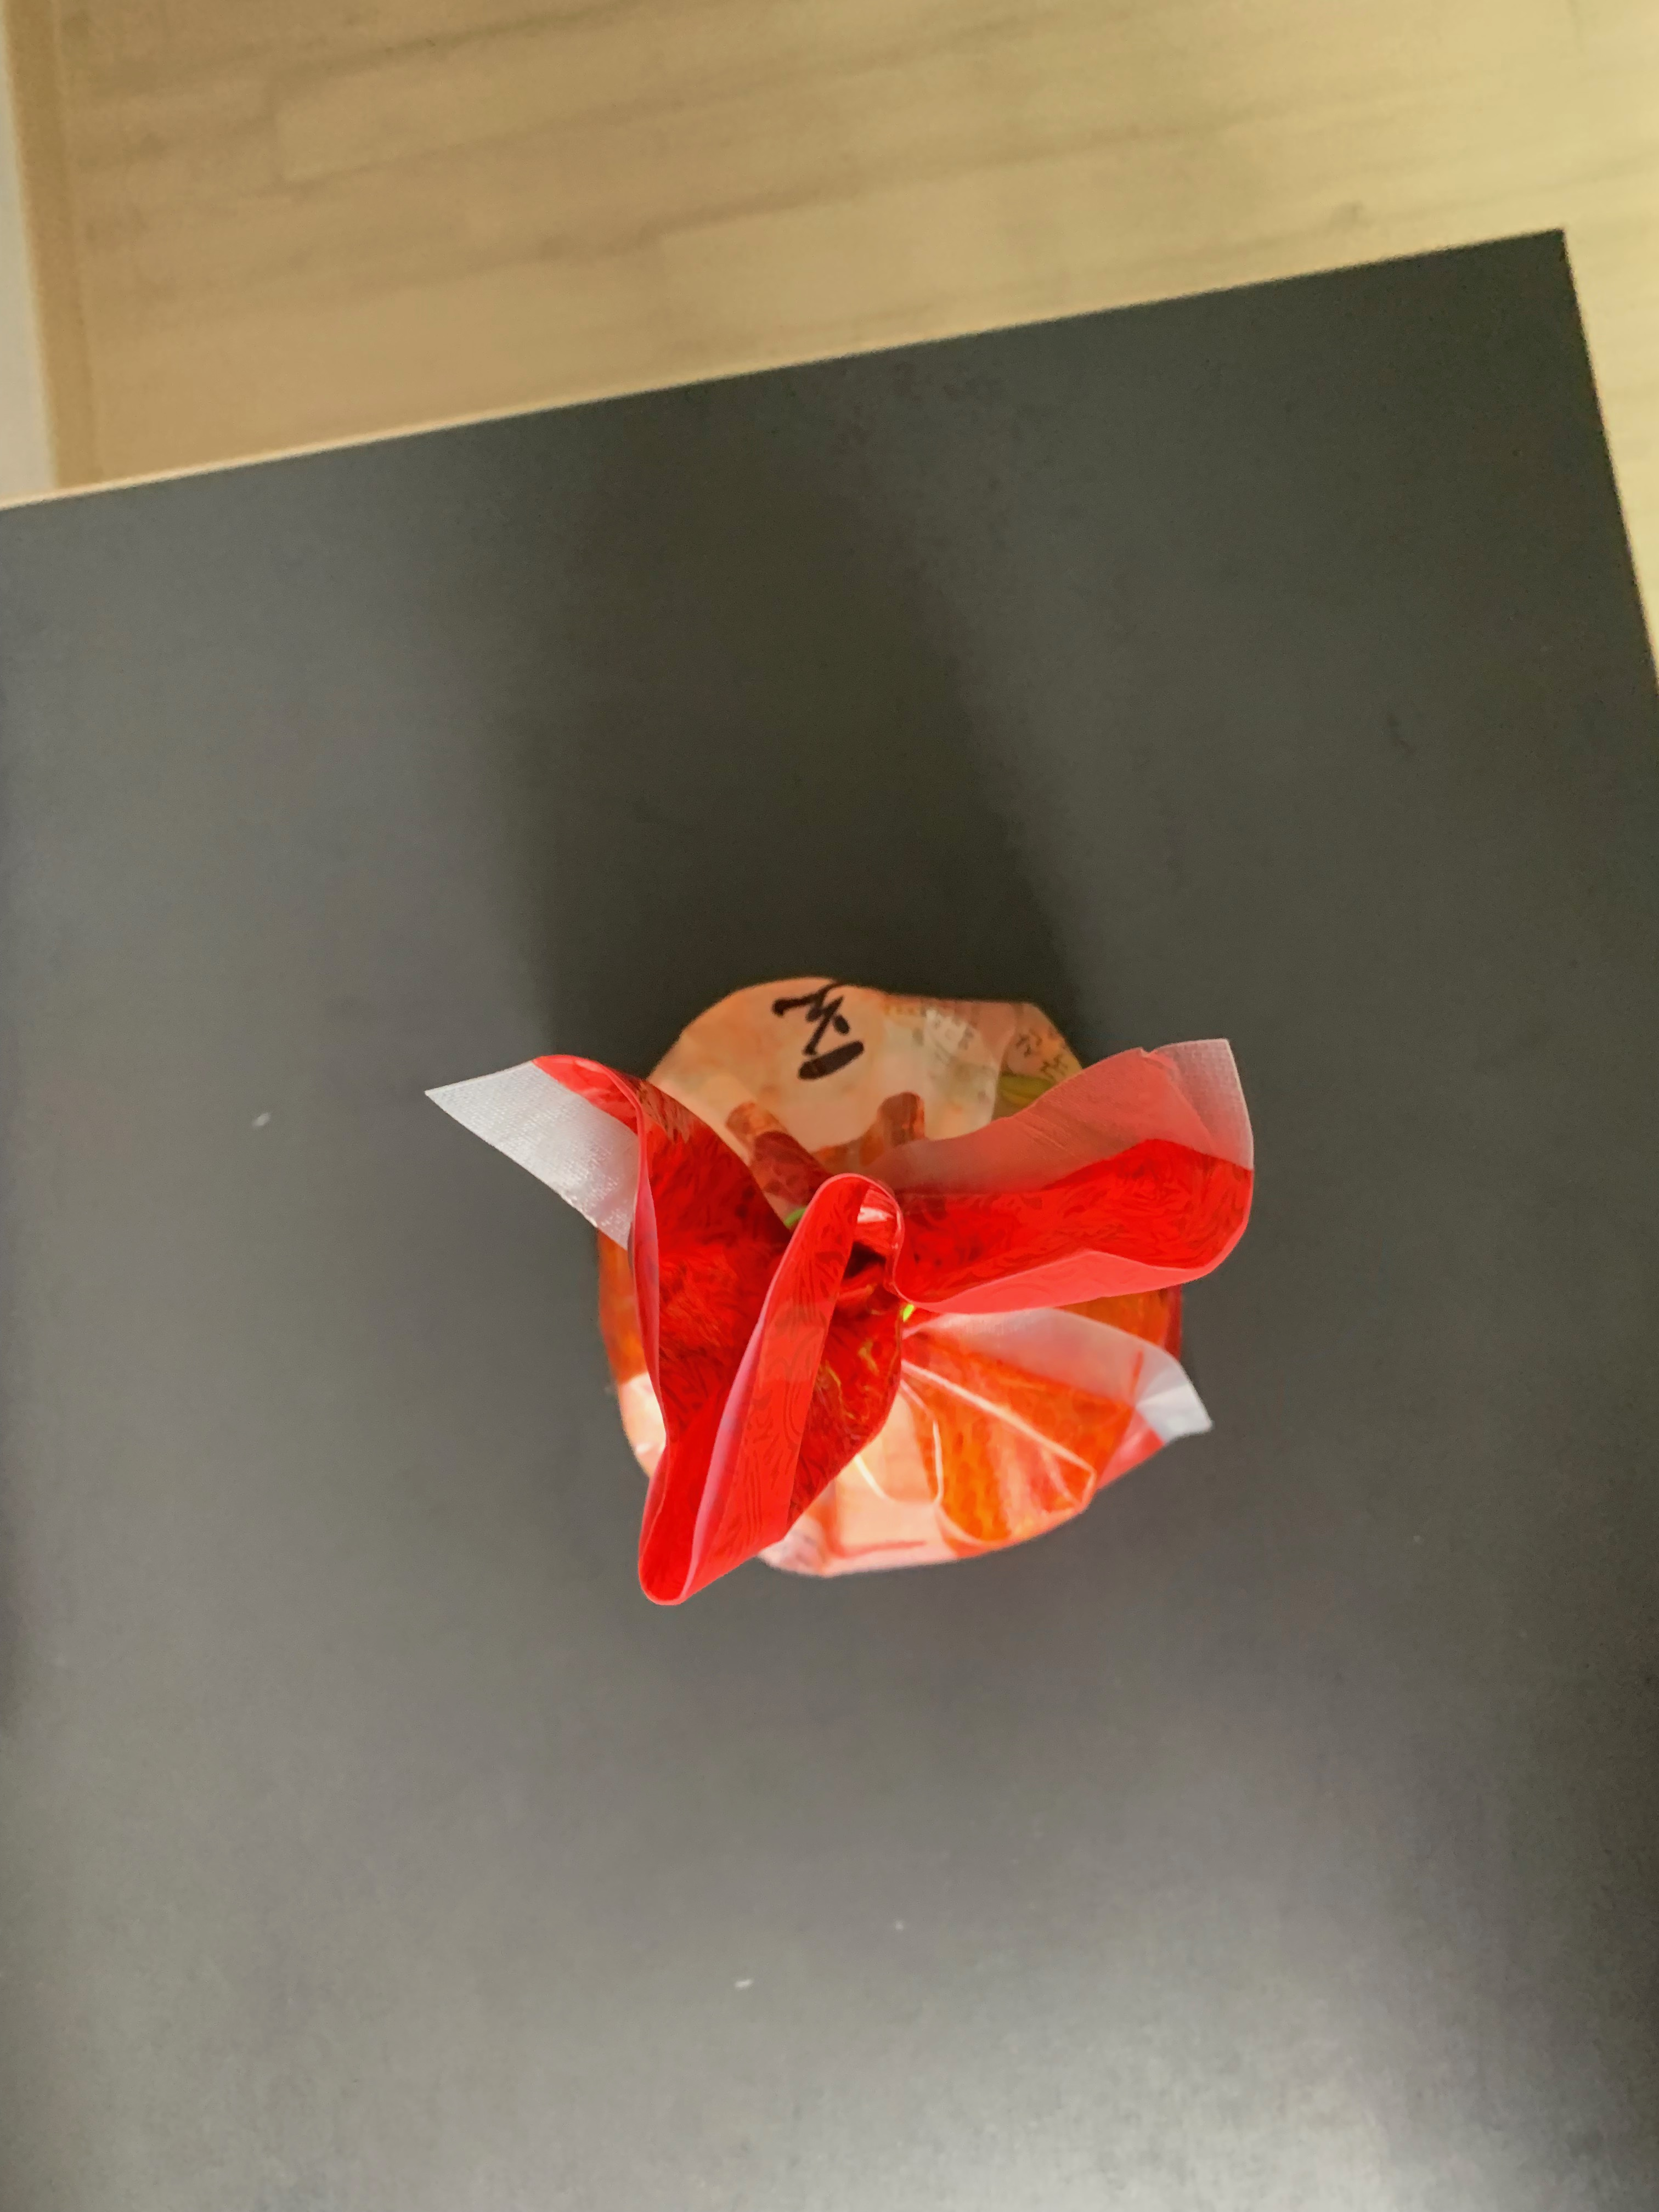kimchi: (586, 977, 1255, 1602)
